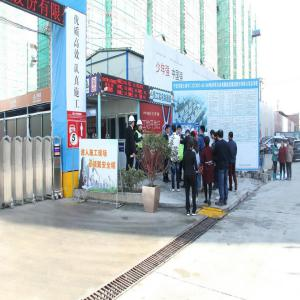none: (188, 140, 195, 152), (218, 130, 225, 142), (204, 136, 211, 147), (200, 125, 206, 136), (210, 129, 216, 140), (165, 125, 172, 134), (229, 132, 235, 141), (172, 125, 177, 135), (178, 125, 183, 135), (186, 130, 192, 138), (192, 131, 197, 140), (275, 140, 279, 147), (281, 140, 285, 147)
red: (194, 130, 199, 140)
white: (129, 116, 136, 129), (137, 120, 143, 132)
